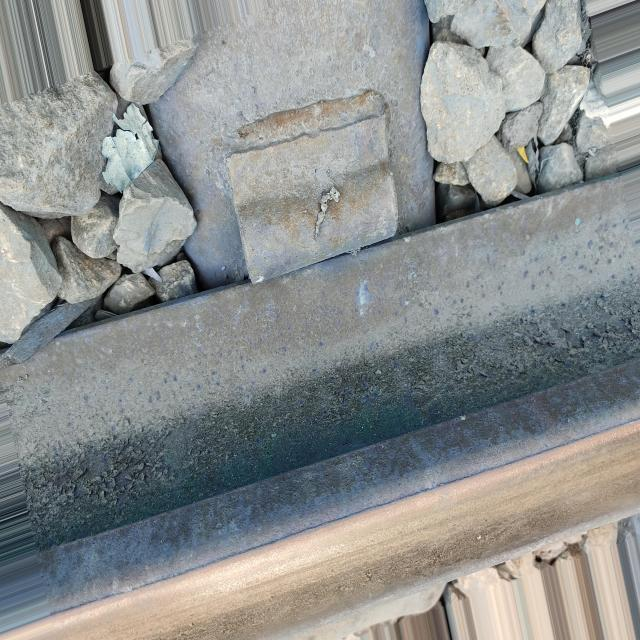Missing Fastener: (197, 58, 416, 308)
